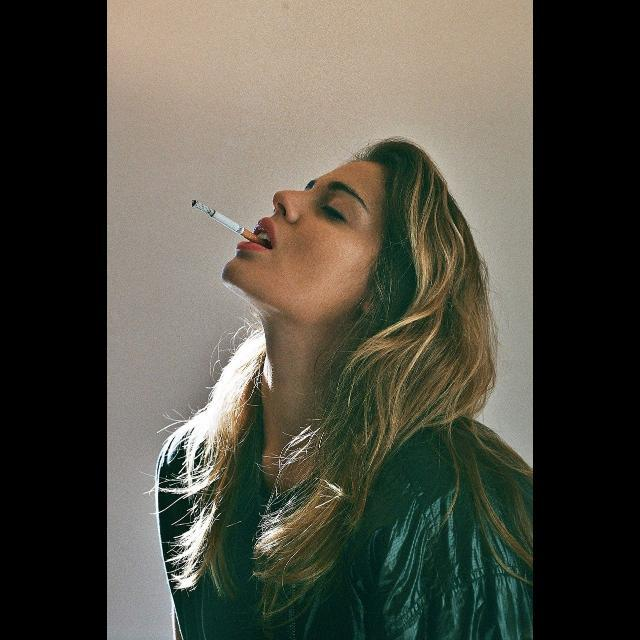rokok: (184, 188, 262, 242)
